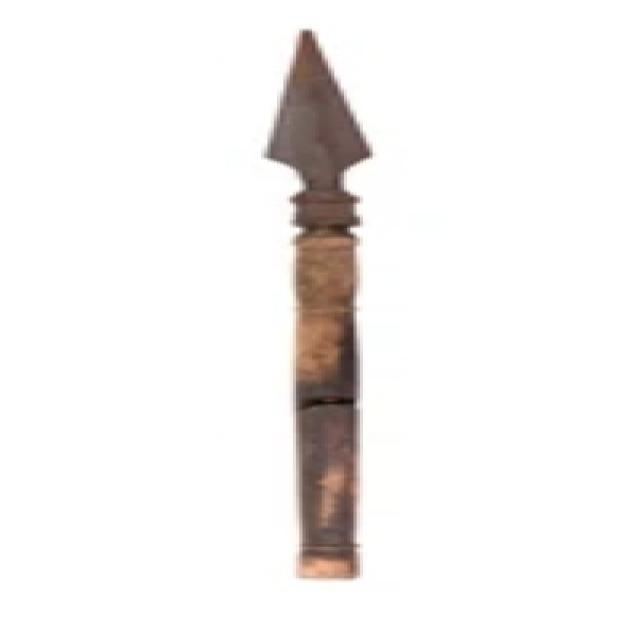spear: (246, 14, 422, 588)
